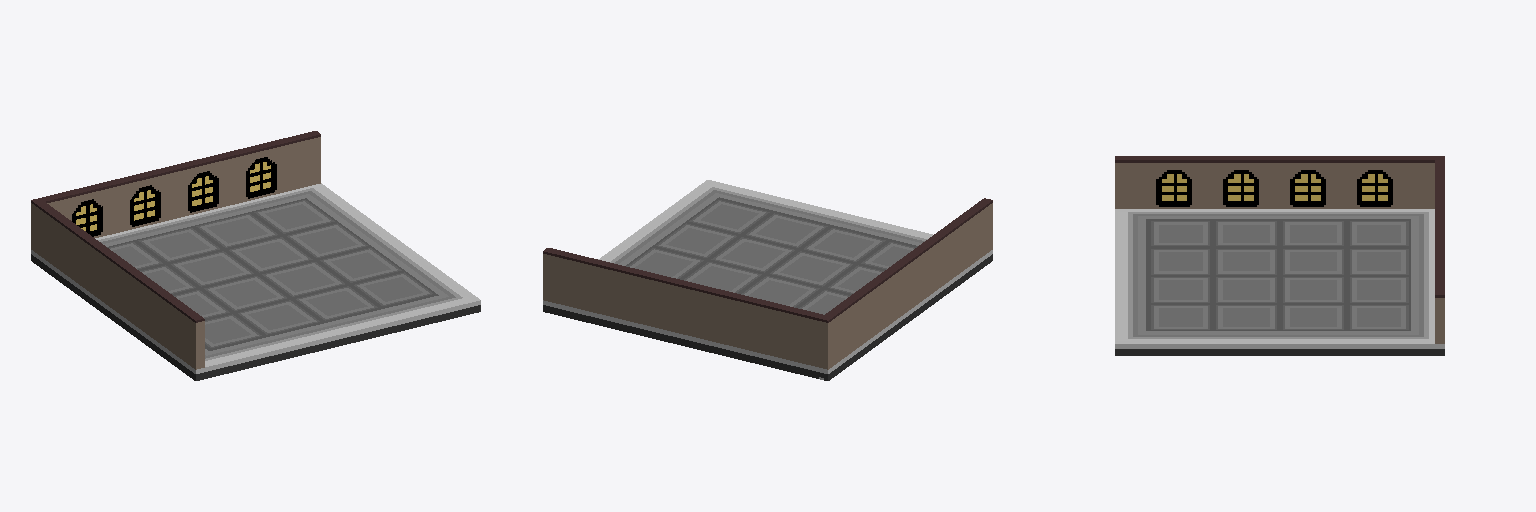
The picture shows the model from 3 angles: view 1: azimuth 30°, elevation 25°; view 2: azimuth 150°, elevation 25°; view 3: azimuth 270°, elevation 25°; orthographic projection.
Parts seen in each view (by area): view 1: Model; view 2: Model; view 3: Model.
Part boxes in pixels (bbox=[...]): Model: bbox=[31, 131, 480, 380]; Model: bbox=[543, 180, 992, 380]; Model: bbox=[1115, 156, 1444, 355].
Size of the model in its own units: 32 by 6.5 by 32.
1 materials, 1 textured.